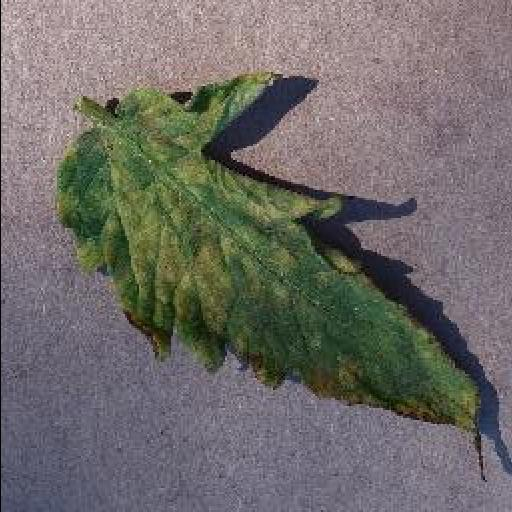disease_tomato: (54, 71, 488, 431)
